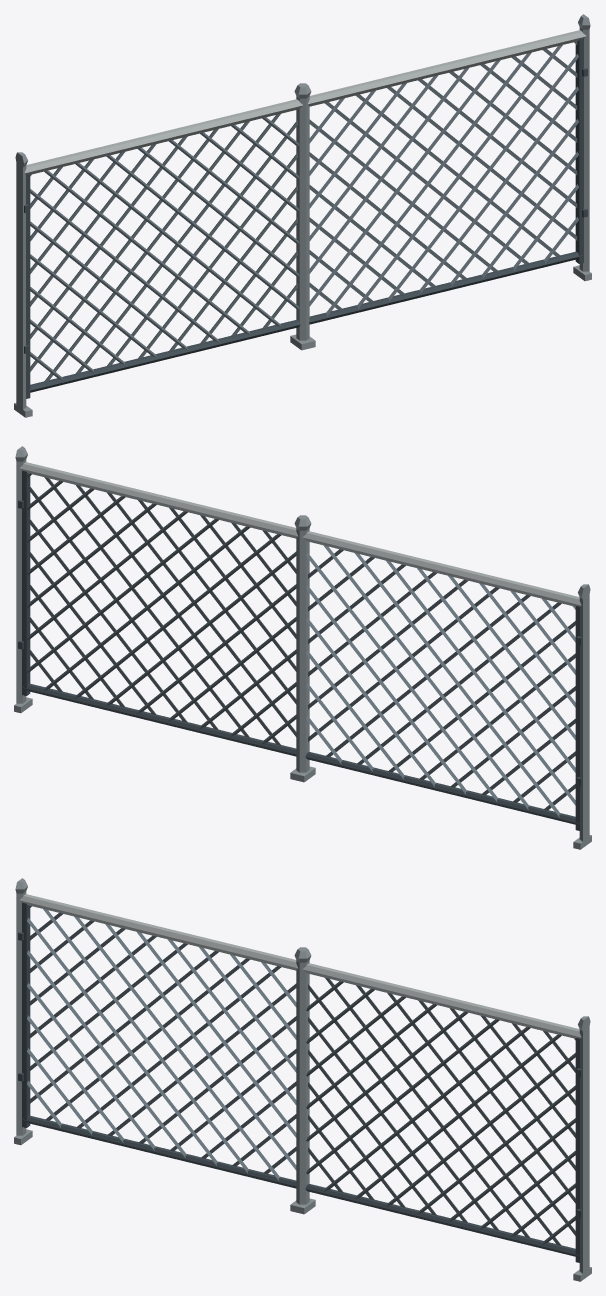
The model's file is chain-link-fence.glb.
3 renders of one model, top to bottom at view 1: azimuth 30°, elevation 25°; view 2: azimuth 150°, elevation 25°; view 3: azimuth 330°, elevation 25°, orthographic.
Visible parts, largest first — view 1: fence; view 2: fence; view 3: fence.
Boxes of the visible parts, x1,y1,x2,y2 form: fence: [14, 14, 591, 417]; fence: [14, 446, 591, 849]; fence: [14, 878, 591, 1281].
Bounding box in the file's own units: 4 × 1.75 × 0.14.
